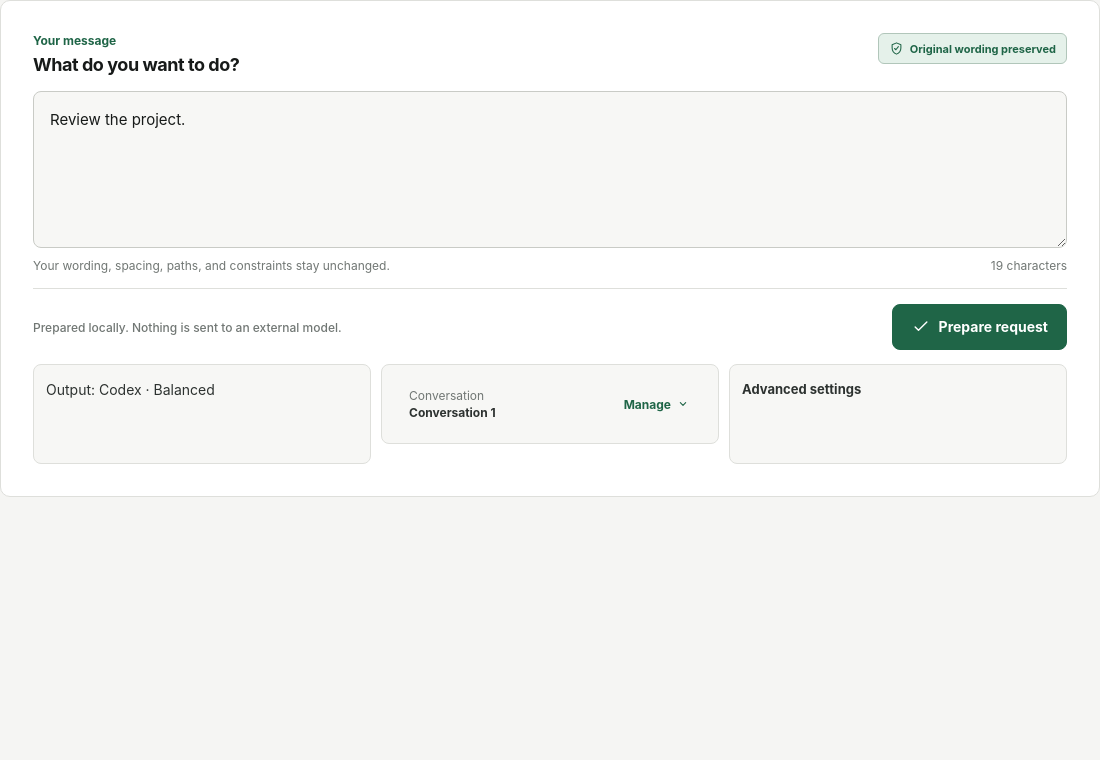
HydrationComposer › describes model transfer truthfully when the local helper is enabled
Expected: the text "Prepared locally. Nothing is sent to an external model." is shown, [33,320,342,335]
Click the heading "Advanced settings".
click(802, 389)  # box [742,381,861,397]
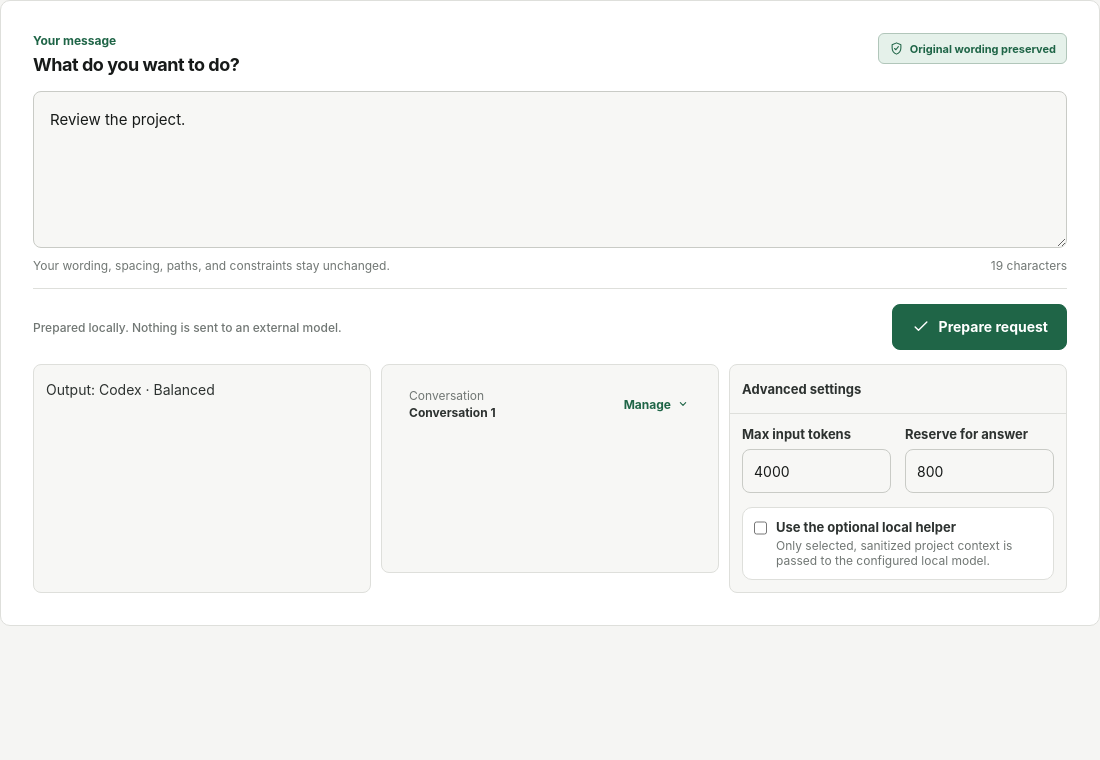
Check the checkbox.
click(761, 528)  # box [754,520,767,536]
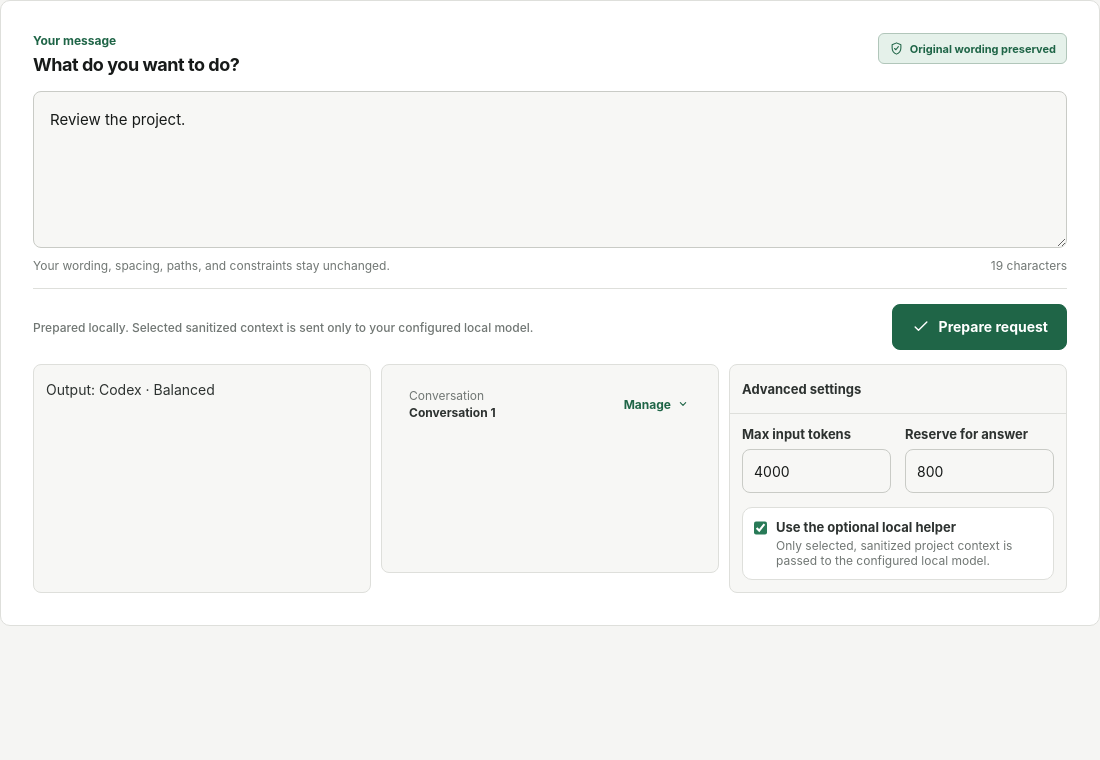
Result: the text "Selected sanitized context is sent only to your configured local model." is shown at [33,320,533,335]
